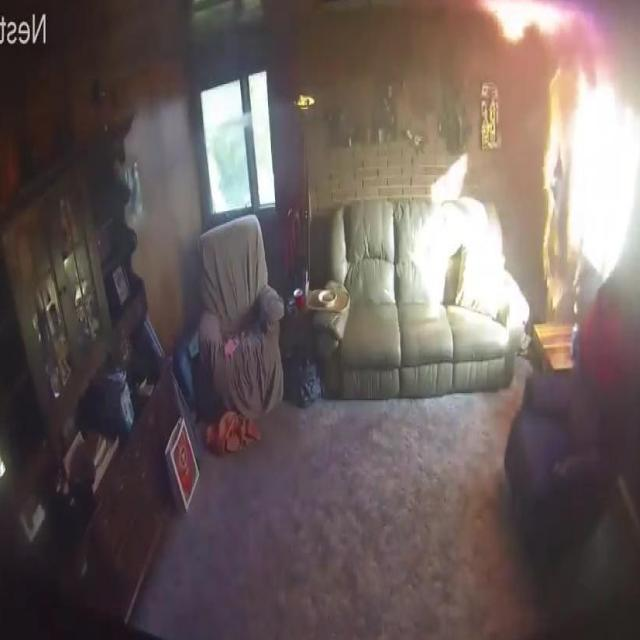smoke: (541, 52, 599, 323), (478, 0, 603, 50)
